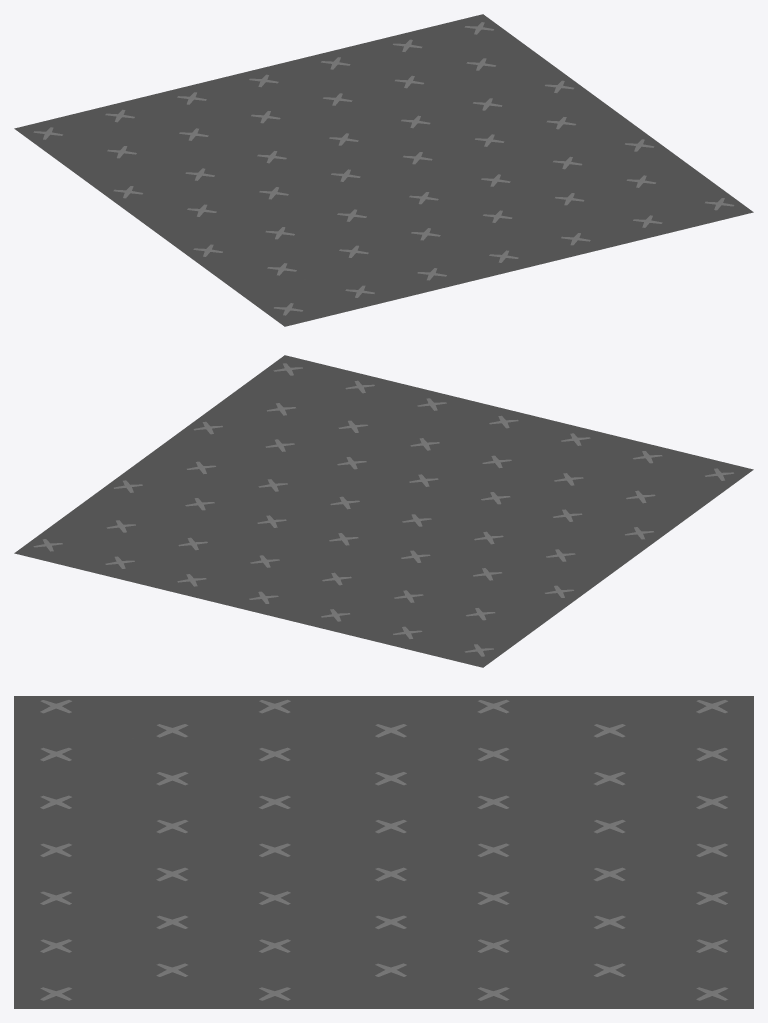
Rendered from Fule Floor.fbx.
3 renders of one model, top to bottom at view 1: azimuth 30°, elevation 25°; view 2: azimuth 150°, elevation 25°; view 3: azimuth 270°, elevation 25°, orthographic. The views are drawn at different scales.
Visible parts, largest first — view 1: Box111; view 2: Box111; view 3: Box111.
Part boxes in pixels (x1,y1,x2,y2): Box111: [14, 14, 753, 326]; Box111: [14, 355, 753, 667]; Box111: [14, 696, 753, 1008].
Bounding box in the file's own units: 350 × 1.37 × 350.
1 material, 1 textured.
